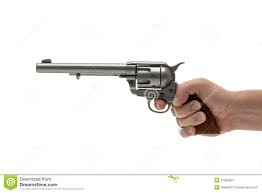gun: (34, 57, 222, 137)
